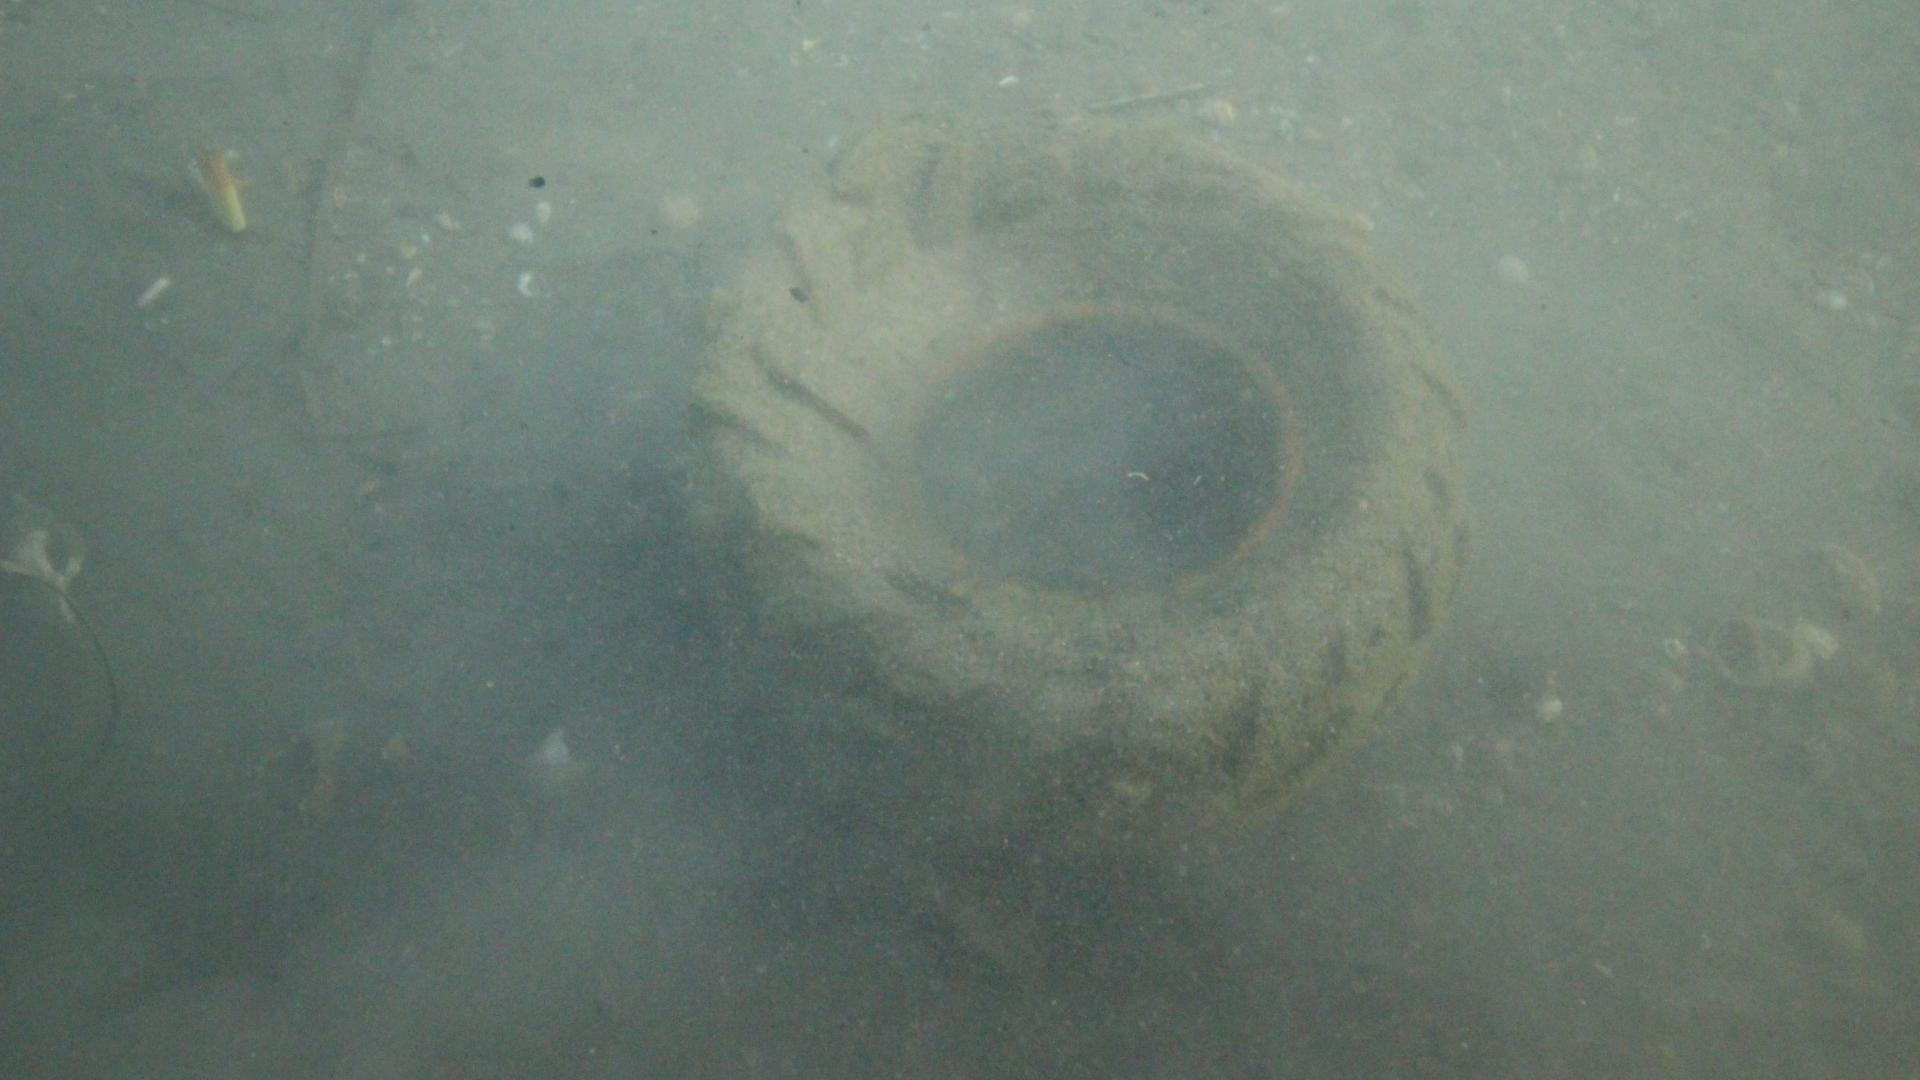tire: (676, 109, 1473, 856)
